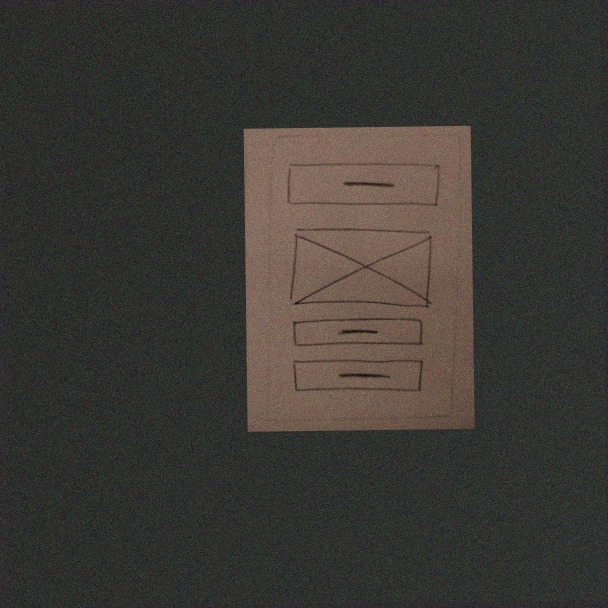button: (284, 156, 442, 212), (289, 355, 427, 396), (291, 315, 428, 351)
image: (286, 222, 435, 313)
